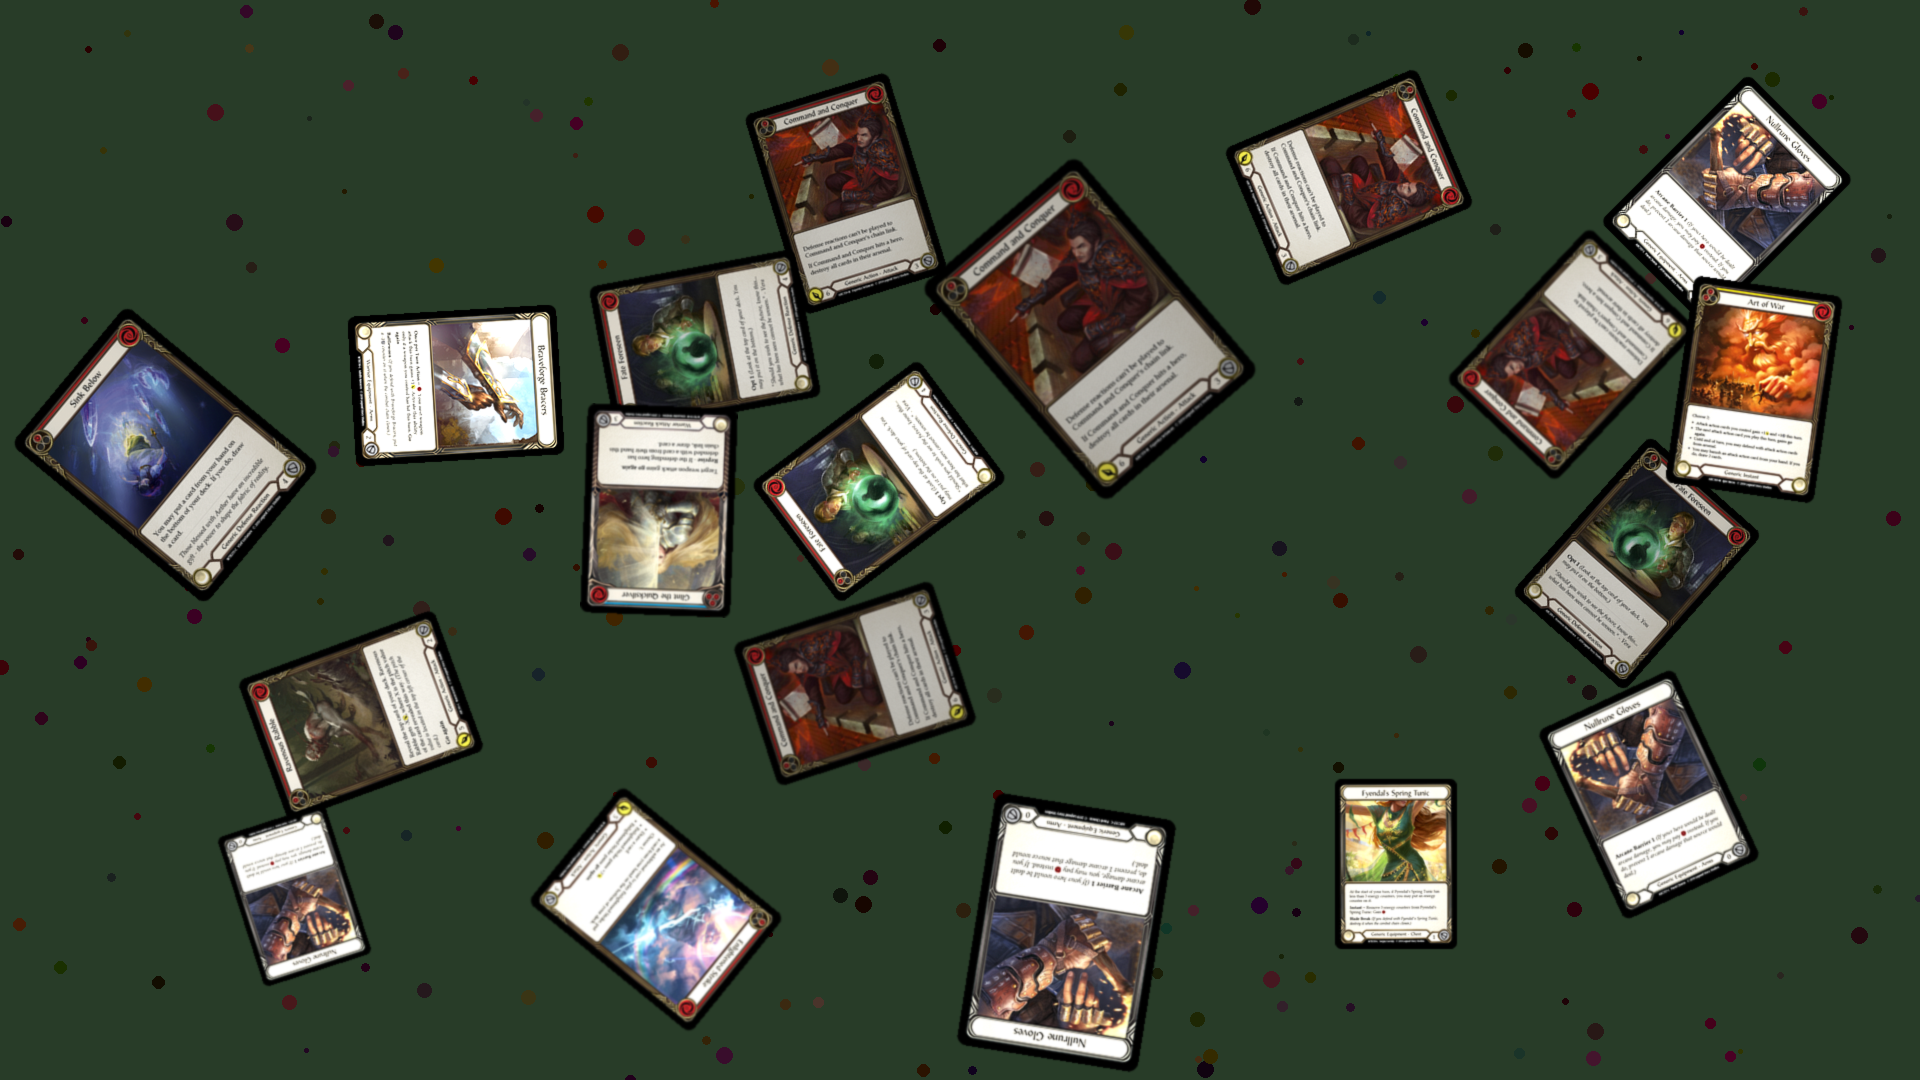Art_of_War_ARC160: (1664, 276, 1844, 504)
Braveforge_Bracers_WTR116: (347, 305, 564, 467)
Command_and_Conquer_ARC159: (920, 154, 1259, 504), (1445, 225, 1698, 483), (1222, 67, 1476, 287), (732, 579, 978, 789), (742, 71, 949, 316)
Enlightened_Strike_WTR159: (527, 785, 785, 1034)
Fate_Foreseen_ARC200: (1511, 435, 1763, 692), (750, 357, 1007, 605), (588, 248, 822, 435)
Fyendals_Spring_Tunic_WTR150: (1335, 778, 1458, 949)
Glint_the_Quicksilver_WTR118: (580, 404, 738, 618)
Nullrune_Gloves_ARC157: (1600, 73, 1854, 328), (956, 793, 1178, 1073), (1536, 669, 1762, 920), (216, 803, 373, 988)
Ravenous_Rabble_ARC191: (237, 609, 485, 822)
Sink_Below_WTR215: (11, 305, 320, 607)
